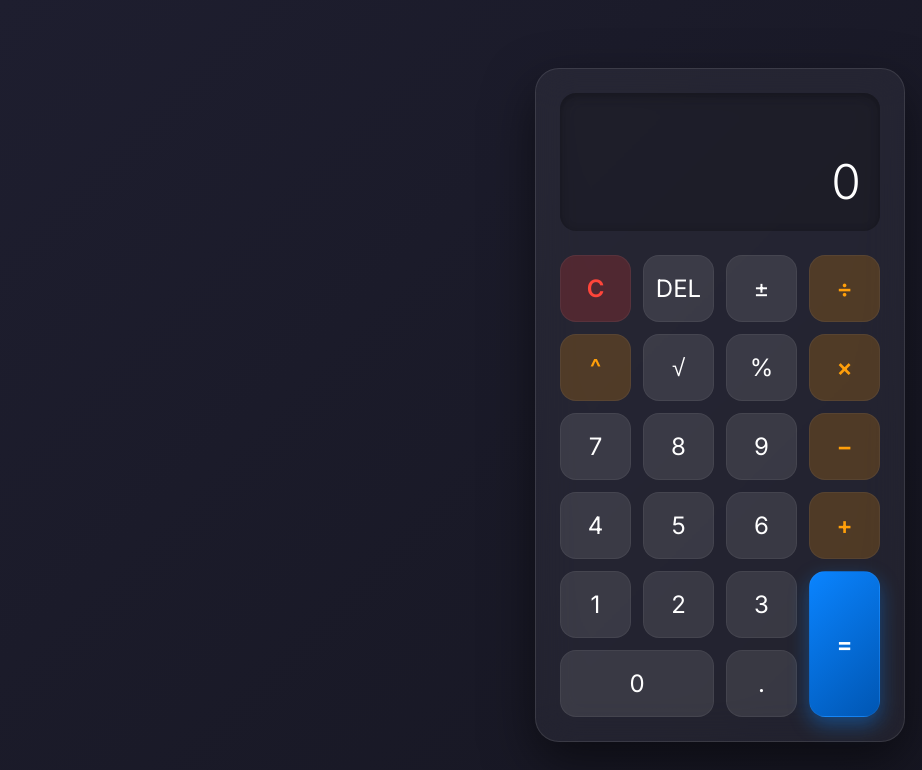
Calculator App › handles unary operation: square root
Click the button "9".
click(762, 447)  # box [726,413,797,480]
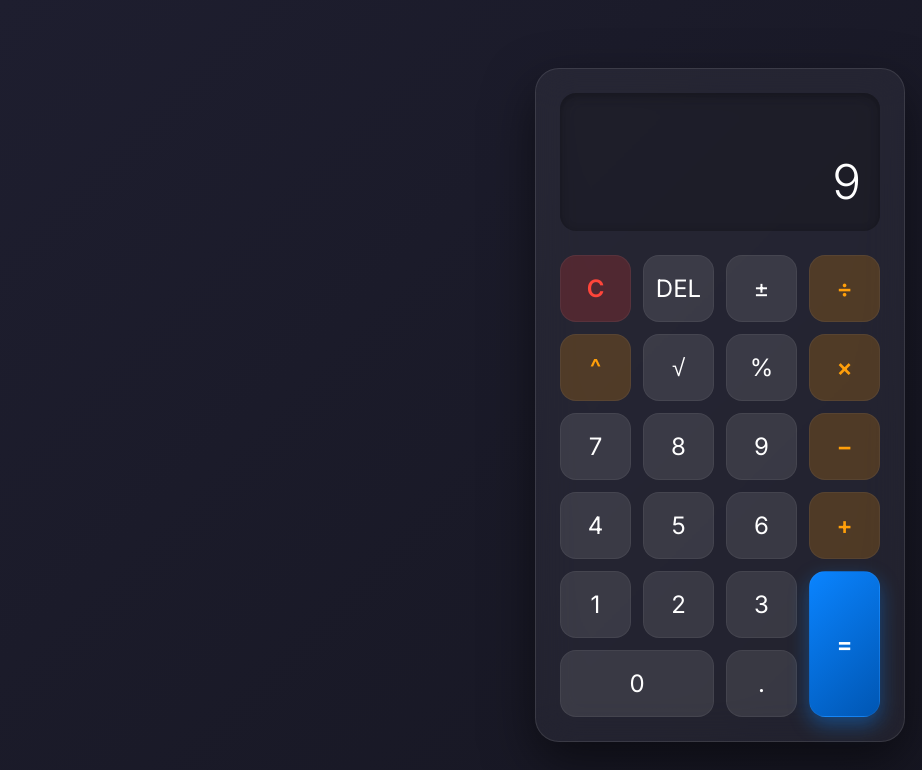
Click the button "√".
click(678, 368)  # box [643,334,714,401]
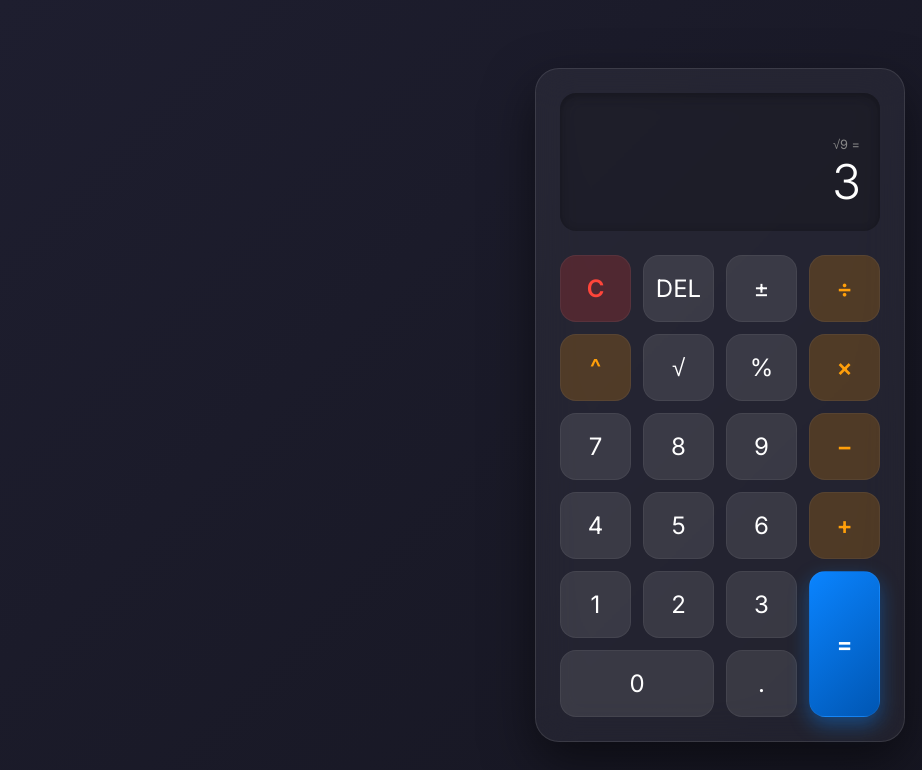
Check: the text "3" is shown, box [832,152,860,211]
Check: the text "√9 =" is shown, box [833,137,860,152]
